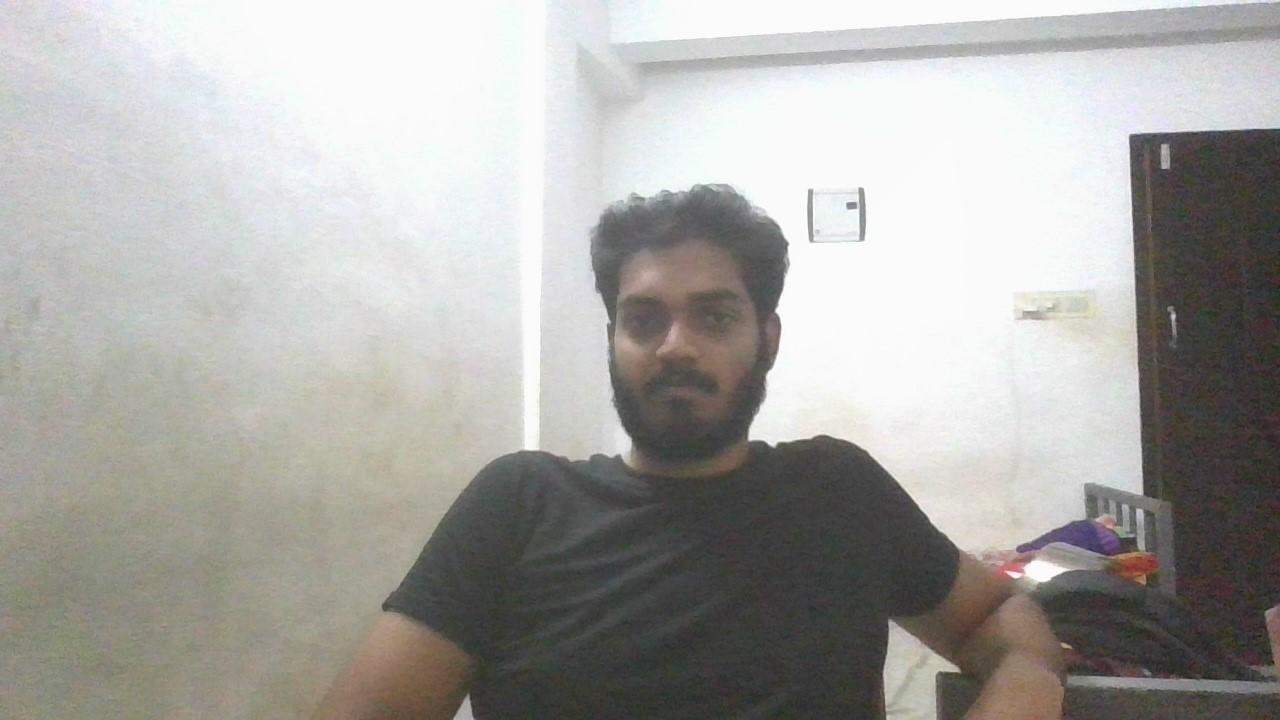nohelmet: (590, 186, 789, 467)
